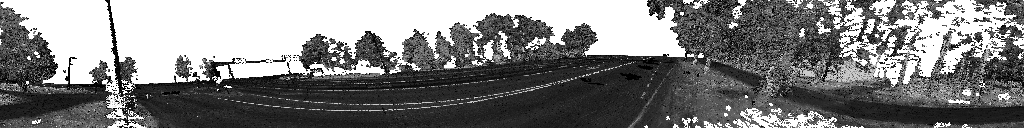gantry_sign_pole: (208, 55, 303, 72)
light_pole: (105, 0, 136, 127), (365, 32, 388, 77), (65, 58, 80, 92), (227, 65, 233, 81)
traffic_pole: (222, 86, 231, 95), (92, 81, 98, 94)
